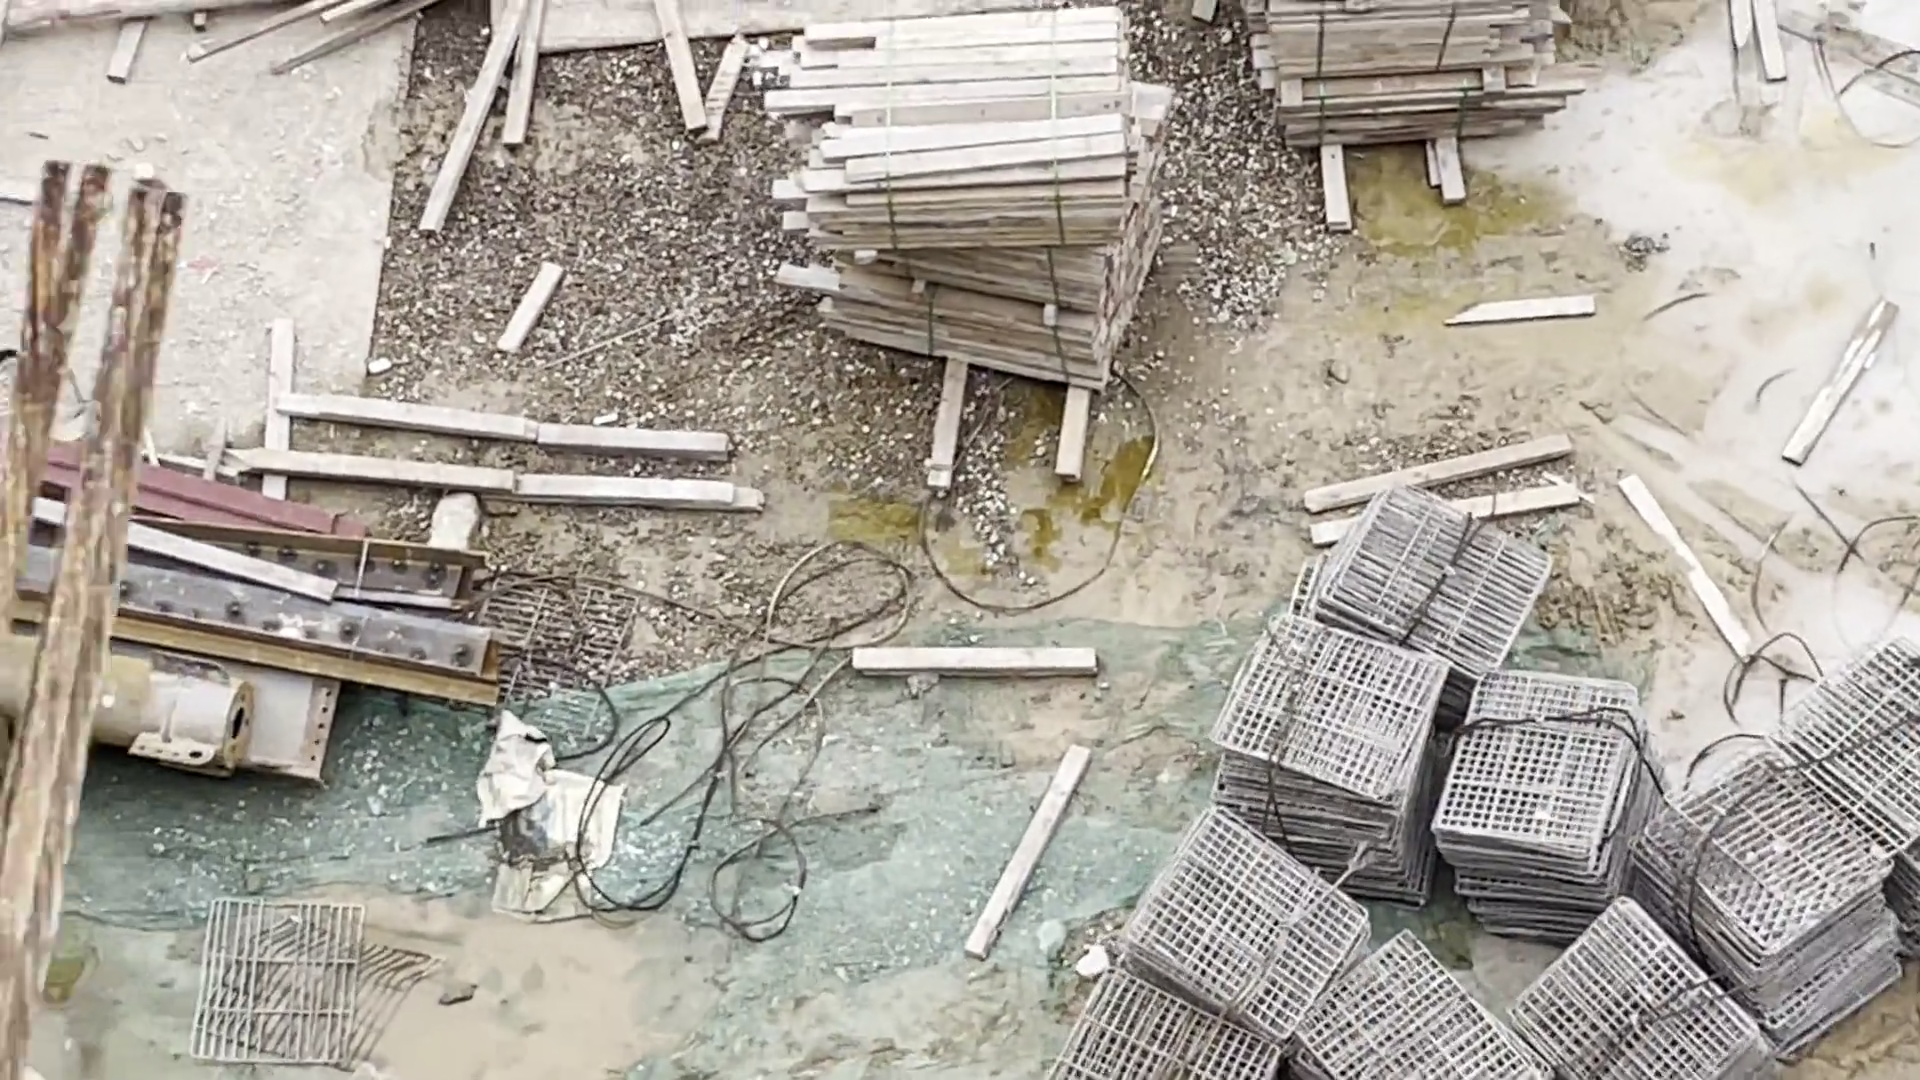wood: (781, 22, 1139, 400), (1254, 7, 1502, 138)
